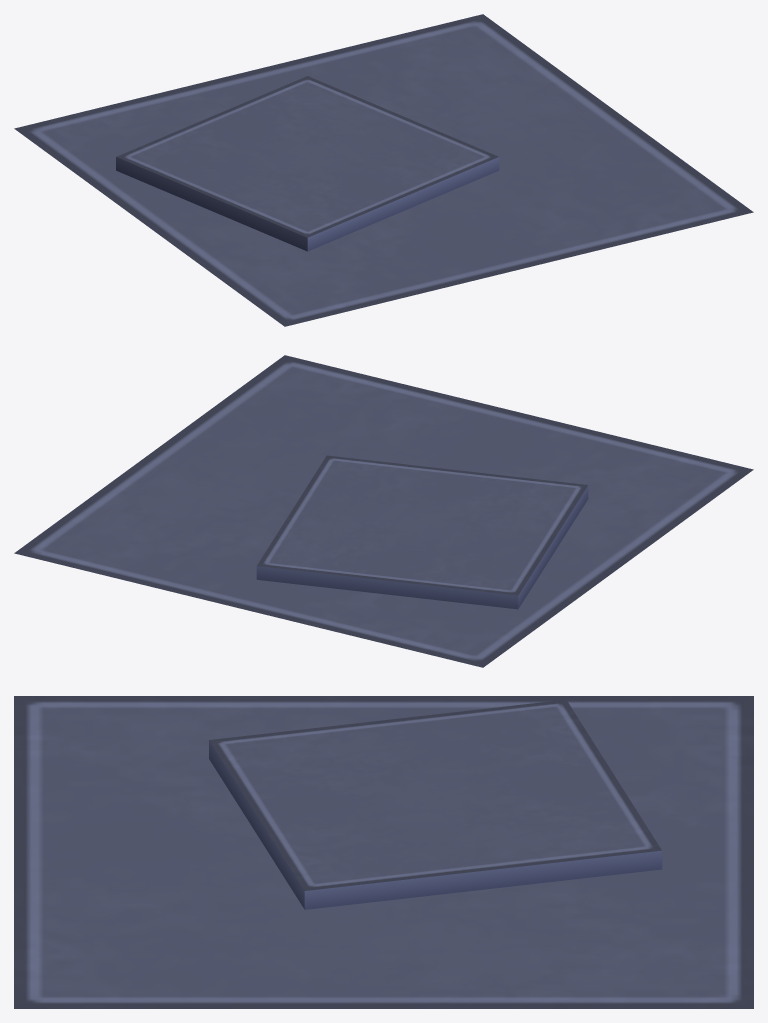
The model's file is modular-space-kit--template-floor-detail.glb.
3 renders of one model, top to bottom at view 1: azimuth 30°, elevation 25°; view 2: azimuth 150°, elevation 25°; view 3: azimuth 270°, elevation 25°, orthographic. The views are drawn at different scales.
Parts seen in each view (by area): view 1: template-floor-detail; view 2: template-floor-detail; view 3: template-floor-detail.
Part boxes in pixels (bbox=[...]): template-floor-detail: bbox=[14, 14, 753, 326]; template-floor-detail: bbox=[14, 355, 753, 667]; template-floor-detail: bbox=[14, 696, 753, 1008].
Size of the model in its own units: 4 by 0.1125 by 4.
1 material, 1 textured.
